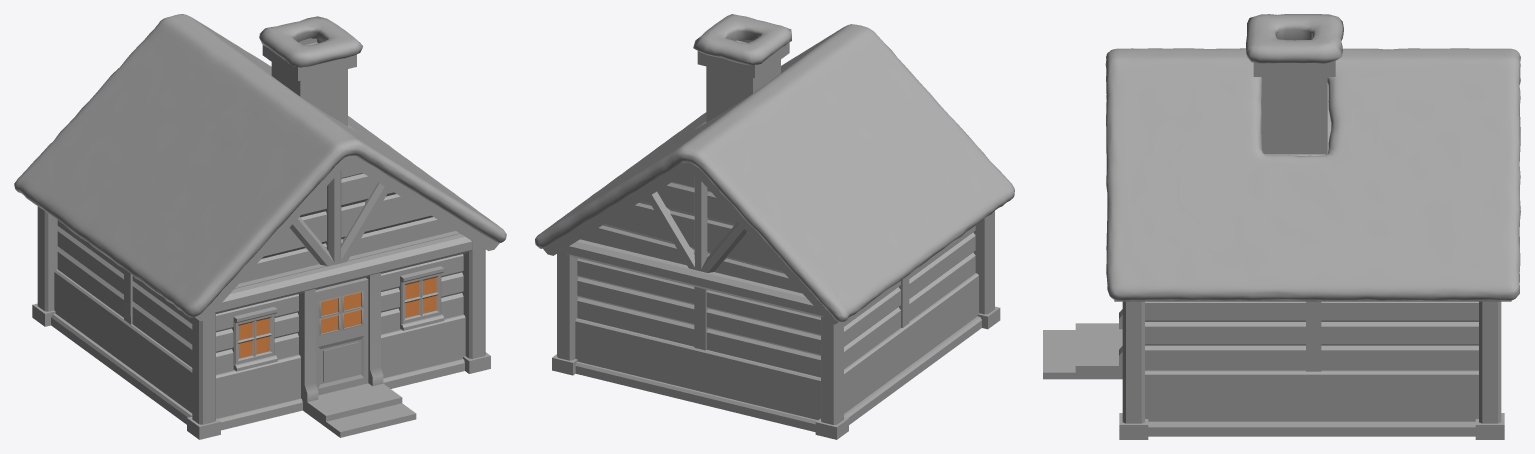
Rendered from S3De_Cabin.fbx.
3 renders of one model, left to right at view 1: azimuth 30°, elevation 25°; view 2: azimuth 150°, elevation 25°; view 3: azimuth 270°, elevation 25°, orthographic. The views are drawn at different scales.
Visible parts, largest first — view 1: Cabin; view 2: Cabin; view 3: Cabin.
Boxes of the visible parts, x1,y1,x2,y2 form: Cabin: (14, 14, 506, 439); Cabin: (535, 14, 1014, 439); Cabin: (1043, 14, 1520, 439).
Size of the model in its own units: 0.0619 by 0.0562 by 0.0694.
